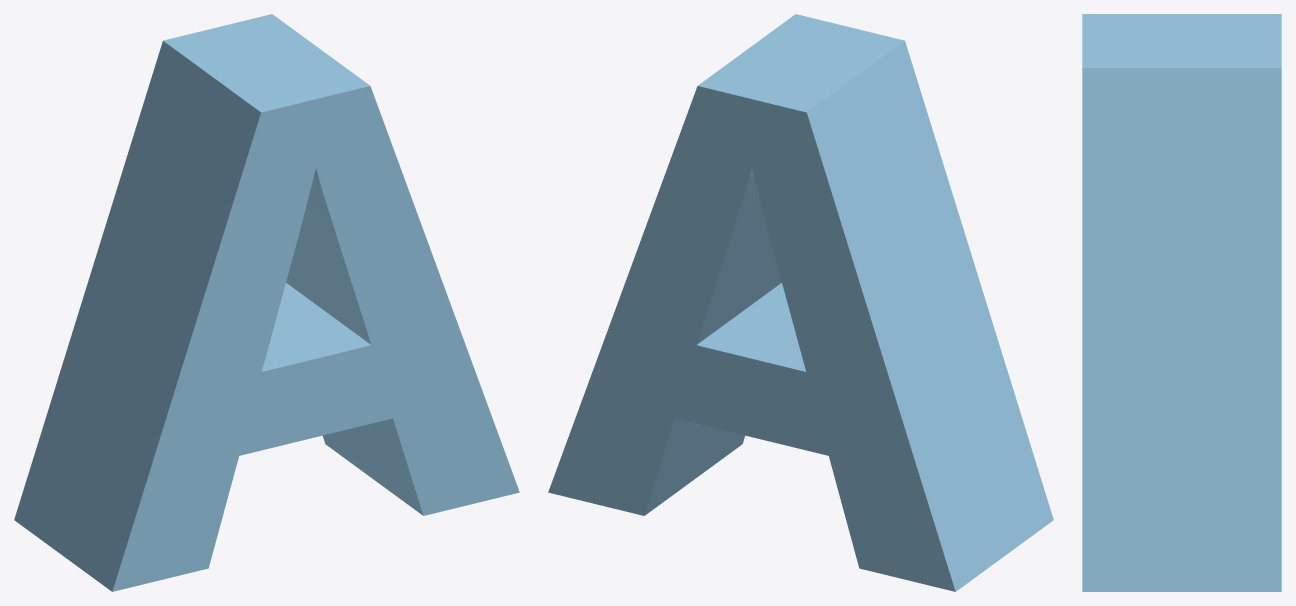
File: small_a.obj
The picture shows the model from 3 angles, left to right: view 1: azimuth 30°, elevation 25°; view 2: azimuth 150°, elevation 25°; view 3: azimuth 270°, elevation 25°; orthographic projection.
Visible parts, largest first — view 1: mesh4, mesh13, mesh12, mesh0, mesh1, mesh9; view 2: mesh5, mesh13, mesh12, mesh0, mesh1, mesh9; view 3: mesh11, mesh12.
Part boxes in pixels (x1=…): mesh4: x1=112, y1=86, x2=519, y2=591; mesh13: x1=14, y1=41, x2=260, y2=591; mesh12: x1=163, y1=14, x2=369, y2=112; mesh0: x1=286, y1=186, x2=371, y2=344; mesh1: x1=262, y1=283, x2=370, y2=371; mesh9: x1=323, y1=418, x2=423, y2=515; mesh5: x1=548, y1=86, x2=955, y2=591; mesh13: x1=807, y1=41, x2=1053, y2=591; mesh12: x1=698, y1=14, x2=904, y2=112; mesh0: x1=696, y1=186, x2=781, y2=344; mesh1: x1=697, y1=283, x2=805, y2=371; mesh9: x1=644, y1=418, x2=744, y2=515; mesh11: x1=1082, y1=68, x2=1281, y2=591; mesh12: x1=1082, y1=14, x2=1281, y2=67.
Bounding box in the file's own units: 0.0958 × 0.0996 × 0.04.
